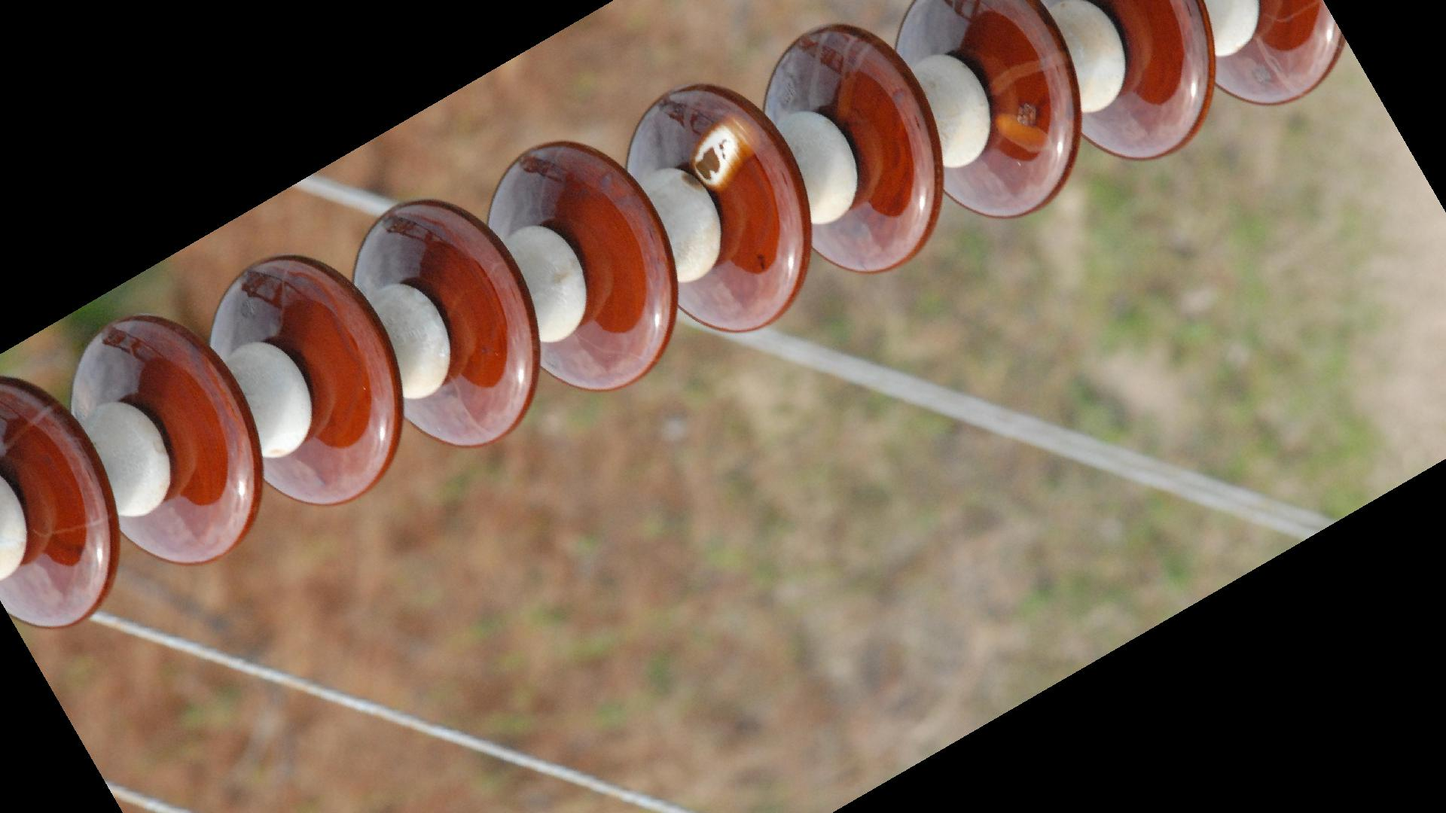insulator: (1, 1, 1353, 635)
insulator_flashover: (689, 113, 757, 193), (992, 111, 1052, 158)
